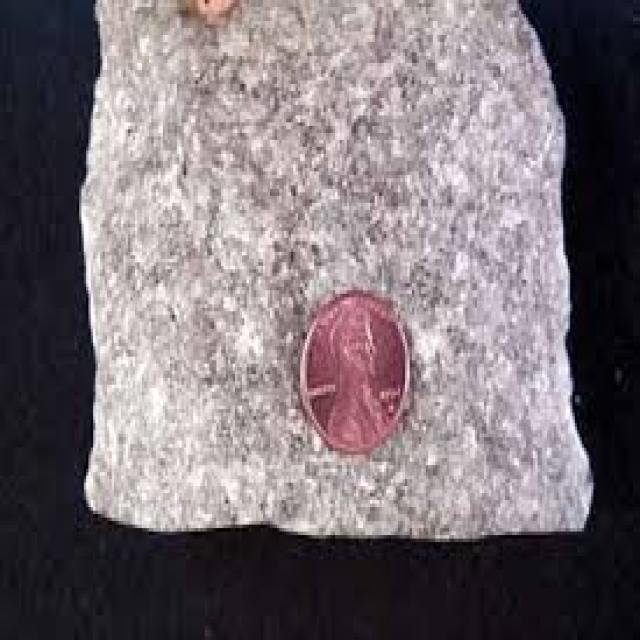Metamorphic: (82, 4, 605, 549)
